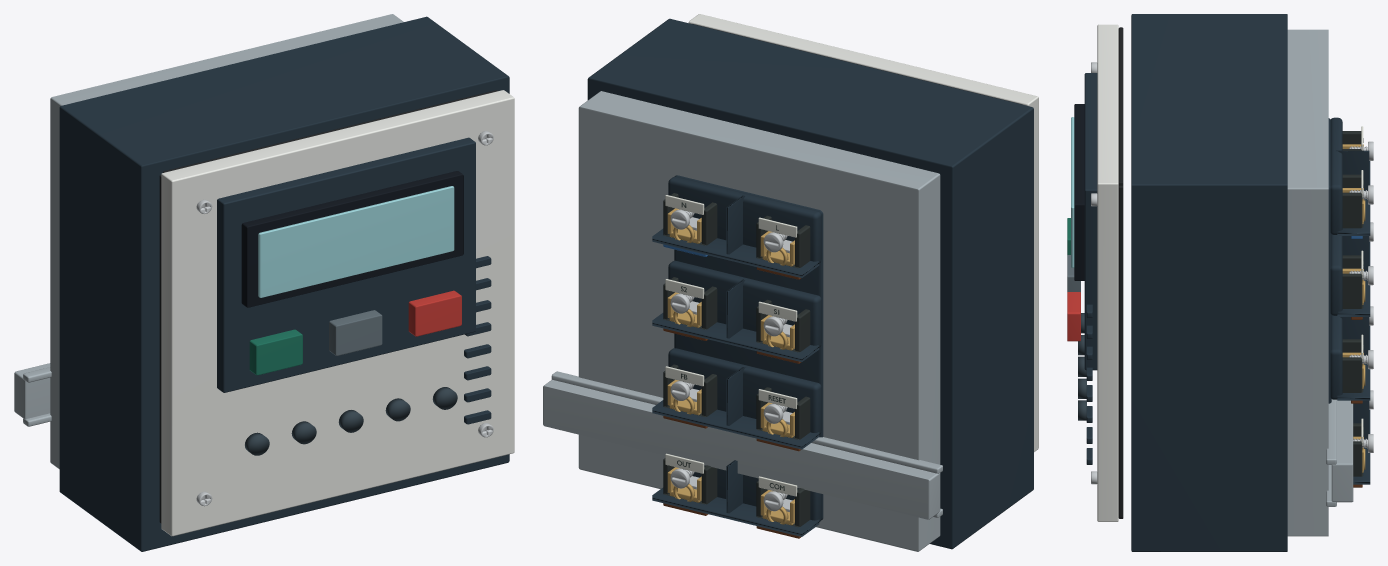
Rendered from safetyRelay_default.glb.
3 views of the same model, side by side, from view 1: azimuth 30°, elevation 25°; view 2: azimuth 150°, elevation 25°; view 3: azimuth 270°, elevation 25° (orthographic). The views are drawn at different scales.
Parts seen in each view (by area): view 1: part:body, part:cover, part:cover · Original a463fd81, part:body.001, part:mounting · Original 2a8198d3, part:body.004, part:body.002, part:body.003, detail:enclosure-gasket-and-fixings · Detail rubber gasket, detail:enclosure-gasket-and-fixings · Detail zinc plated fix; view 2: part:body, part:terminals · Original a463fd81, part:mounting · Original 2a8198d3, part:cover, detail:terminal-clamp:FB · Detail moulded engineering polyme, detail:terminal-clamp:S2 · Detail moulded engineering polyme, detail:terminal-clamp:N · Detail moulded engineering polymer, detail:terminal-clamp:L · Detail moulded engineering polymer, detail:terminal-clamp:S1 · Detail moulded engineering polyme, detail:terminal-clamp:RESET · Detail moulded engineering pol, detail:terminal-clamp:OUT · Detail moulded engineering polym, detail:terminal-clamp:COM · Detail moulded engineering polym (+4 smaller); view 3: part:body, part:cover, part:terminals · Original a463fd81, part:cover · Original a463fd81, detail:enclosure-gasket-and-fixings · Detail rubber gasket, part:mounting · Original 2a8198d3, part:body.001, detail:terminal-clamp:N · Detail moulded engineering polymer, detail:terminal-clamp:FB · Detail moulded engineering polyme, detail:terminal-clamp:S2 · Detail moulded engineering polyme, part:body.004, detail:terminal-clamp:OUT · Detail moulded engineering polym.
Boxes of the visible parts, x1,y1,x2,y2 form: part:body: [50, 14, 509, 551]; part:cover: [161, 90, 514, 536]; part:cover · Original a463fd81: [217, 137, 491, 424]; part:body.001: [241, 171, 463, 307]; part:mounting · Original 2a8198d3: [14, 363, 51, 426]; part:body.004: [408, 290, 461, 336]; part:body.002: [249, 329, 302, 375]; part:body.003: [329, 310, 382, 355]; detail:enclosure-gasket-and-fixings · Detail rubber gasket: [159, 90, 497, 523]; detail:enclosure-gasket-and-fixings · Detail zinc plated fix: [196, 131, 493, 506]; part:body: [578, 18, 1033, 551]; part:terminals · Original a463fd81: [652, 175, 823, 536]; part:mounting · Original 2a8198d3: [543, 371, 942, 519]; part:cover: [688, 14, 1038, 451]; detail:terminal-clamp:FB · Detail moulded engineering polyme: [663, 364, 717, 416]; detail:terminal-clamp:S2 · Detail moulded engineering polyme: [663, 277, 717, 329]; detail:terminal-clamp:N · Detail moulded engineering polymer: [663, 193, 717, 245]; detail:terminal-clamp:L · Detail moulded engineering polymer: [756, 215, 810, 268]; detail:terminal-clamp:S1 · Detail moulded engineering polyme: [756, 299, 810, 352]; detail:terminal-clamp:RESET · Detail moulded engineering pol: [756, 387, 810, 439]; detail:terminal-clamp:OUT · Detail moulded engineering polym: [663, 458, 717, 504]; detail:terminal-clamp:COM · Detail moulded engineering polym: [756, 481, 810, 527]; part:body: [1131, 14, 1328, 551]; part:cover: [1097, 24, 1118, 521]; part:terminals · Original a463fd81: [1328, 117, 1370, 484]; part:cover · Original a463fd81: [1084, 73, 1097, 464]; detail:enclosure-gasket-and-fixings · Detail rubber gasket: [1118, 27, 1123, 518]; part:mounting · Original 2a8198d3: [1326, 399, 1353, 506]; part:body.001: [1071, 104, 1084, 280]; detail:terminal-clamp:N · Detail moulded engineering polymer: [1342, 174, 1363, 228]; detail:terminal-clamp:FB · Detail moulded engineering polyme: [1342, 339, 1363, 392]; detail:terminal-clamp:S2 · Detail moulded engineering polyme: [1342, 255, 1363, 308]; part:body.004: [1067, 292, 1080, 341]; detail:terminal-clamp:OUT · Detail moulded engineering polym: [1353, 423, 1363, 476].
Size of the model in its own units: 1.16 by 1.1 by 0.8309.
